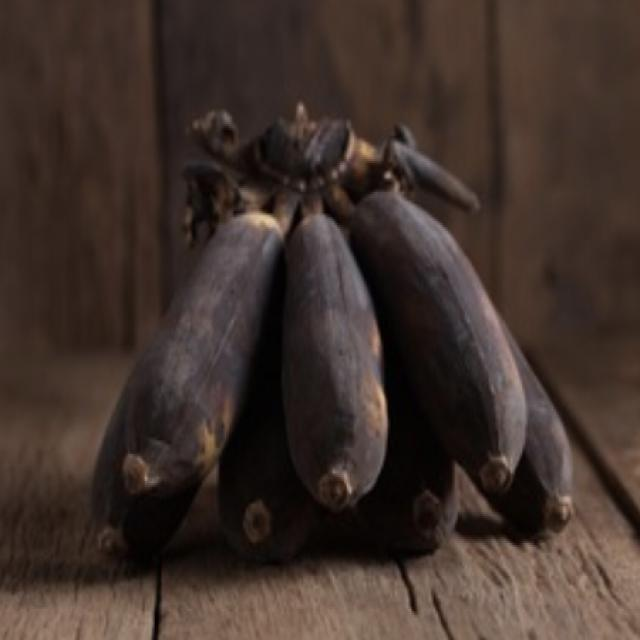rotten-banana: (124, 191, 276, 478), (277, 195, 382, 504), (373, 190, 490, 463)
